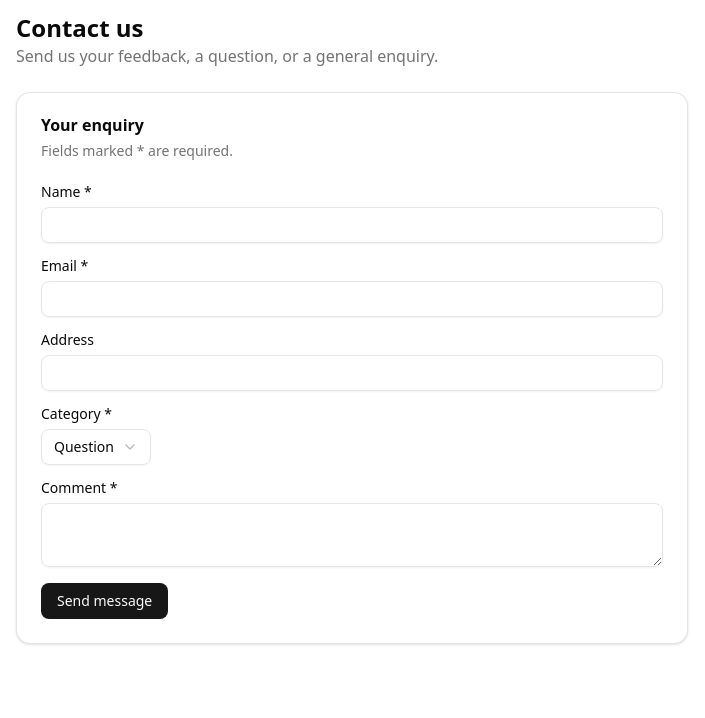
Scenario: Story 2 — contact form › shows validation messages and does not send when required fields are missing or the email is invalid
The image size is (705, 718).
Step 1. Type "not-an-email" into the field labelled "Email *" → (352, 299), box [41,281,663,317]
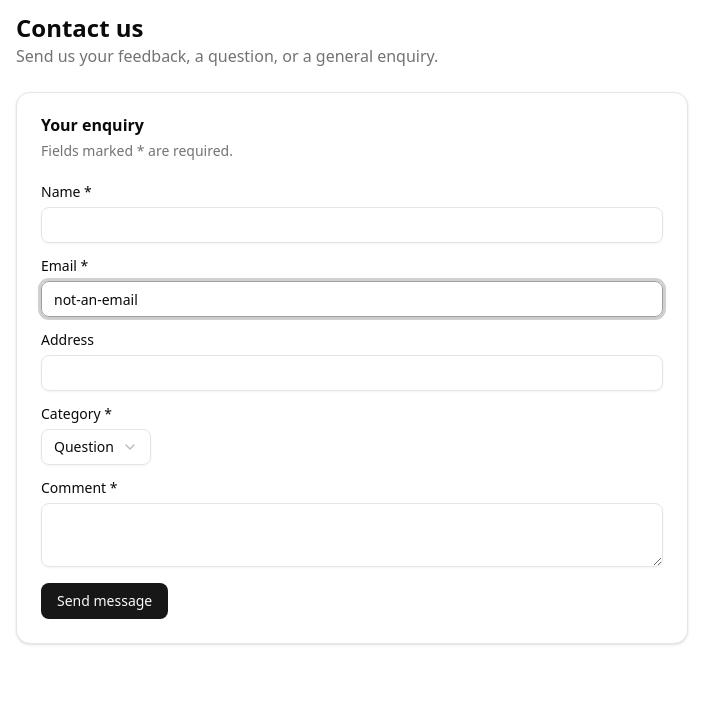
Step 2. Type "Hello" into the text box labelled "Comment *" → (352, 535), box [41,503,663,567]
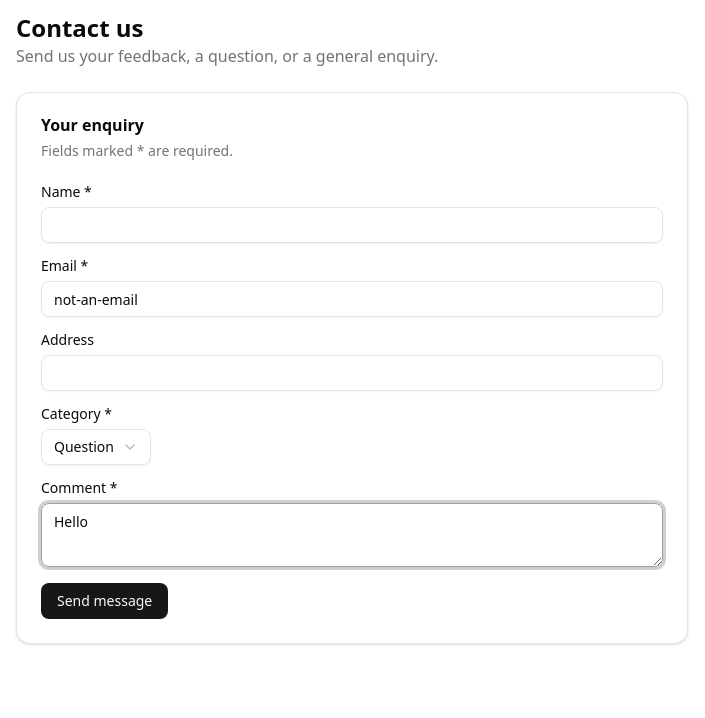
Step 3. Click the button "Send message" → (105, 601), box [41,583,168,619]
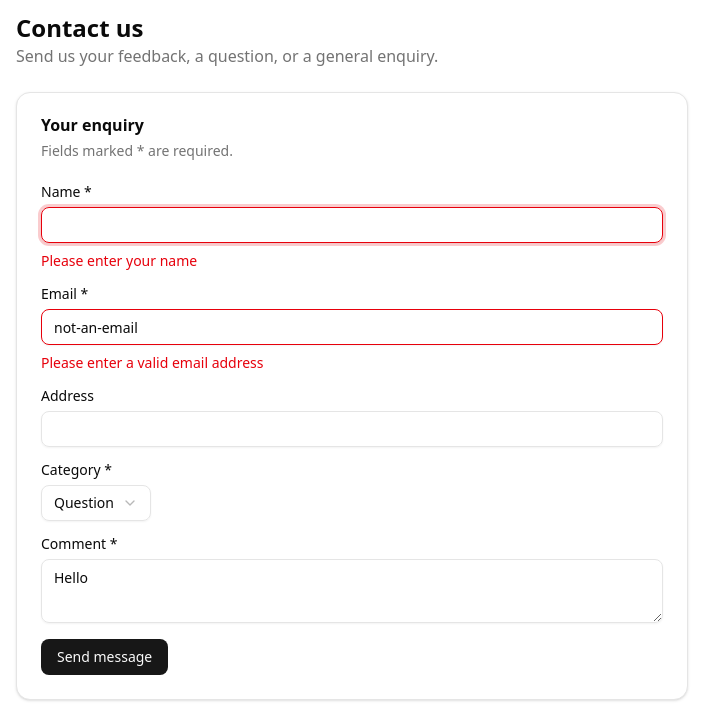
Expected: the text "Please enter your name" is shown, [41,251,197,270]
Expected: the text "Please enter a valid email address" is shown, [41,353,264,372]
